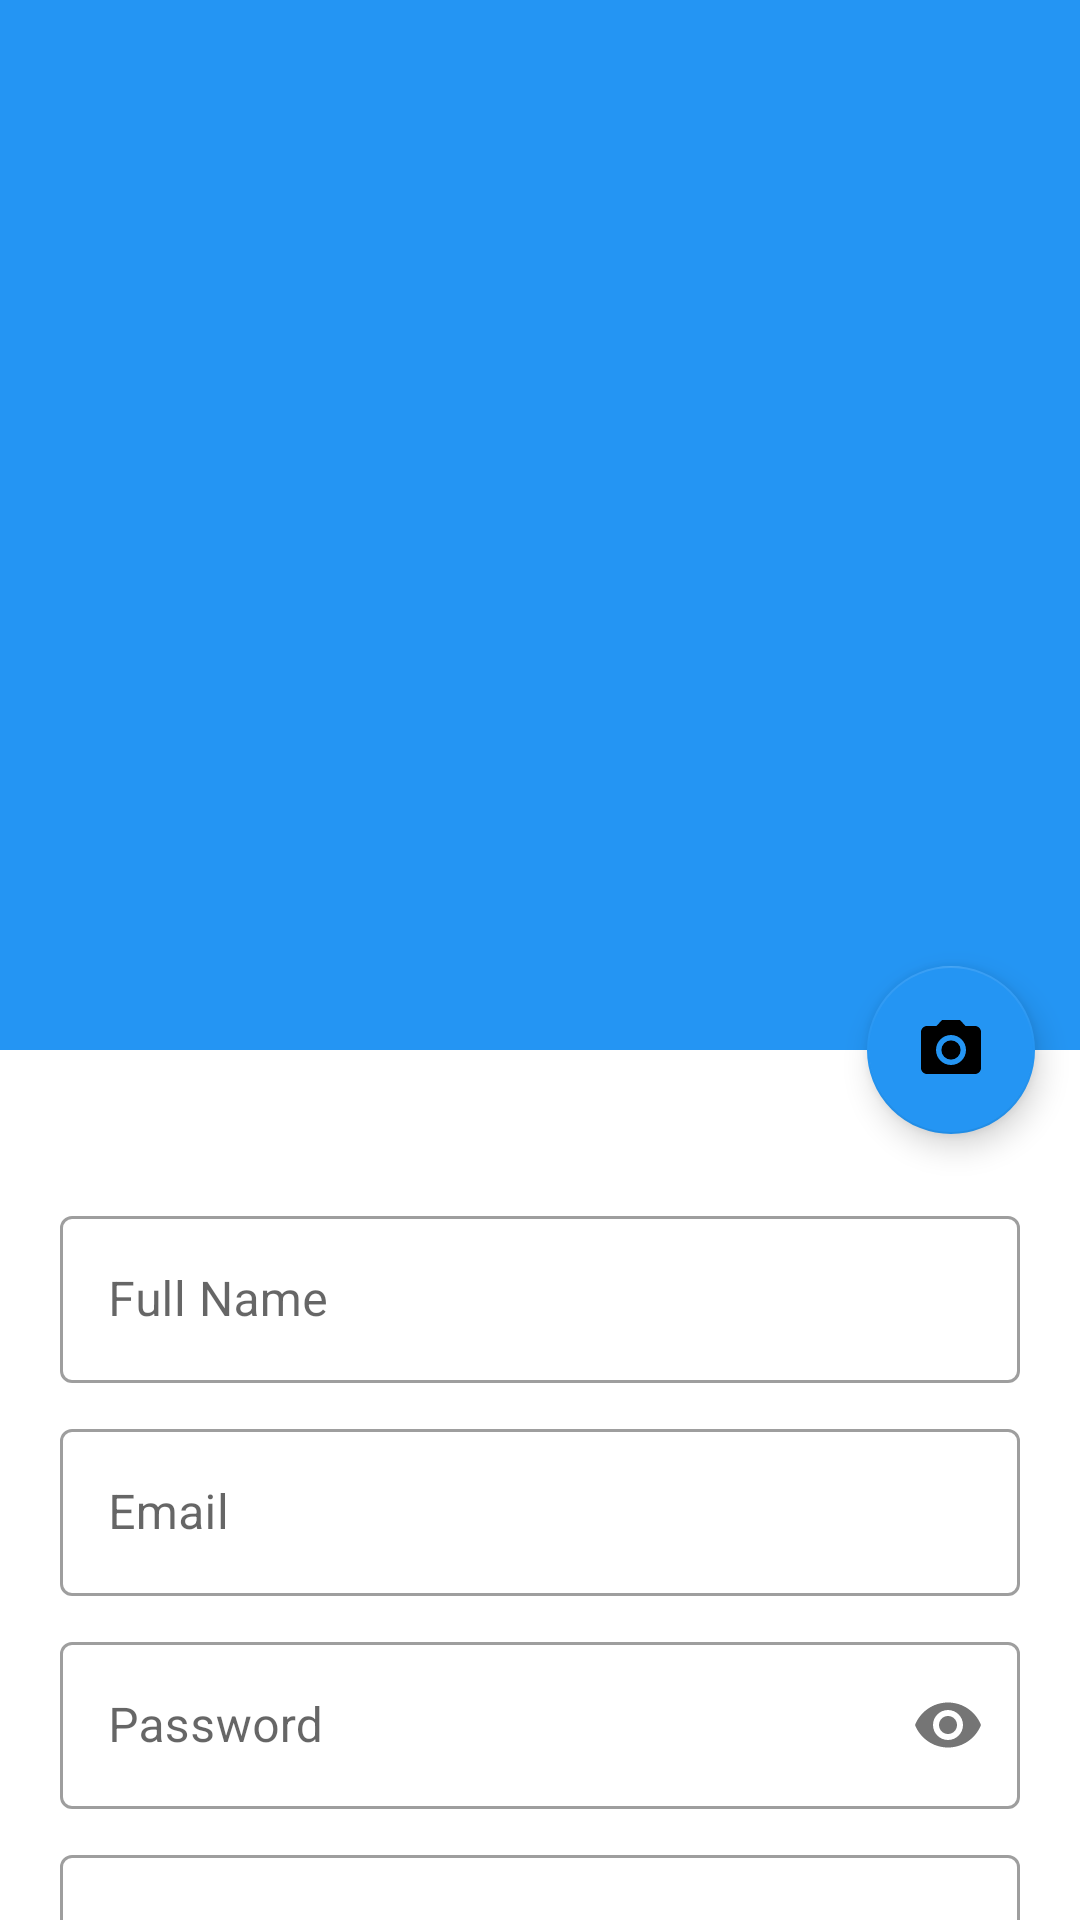

Screen size 1080 × 1920. Icon name, then its center in pixels as [x,y]:
photo camera: [951,1050]
